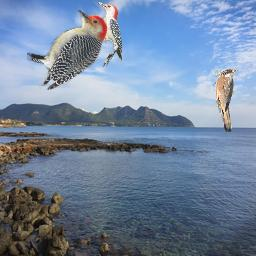Cuckoo: (215, 69, 238, 132)
Woodpecker: (27, 10, 108, 90), (96, 1, 122, 67)
